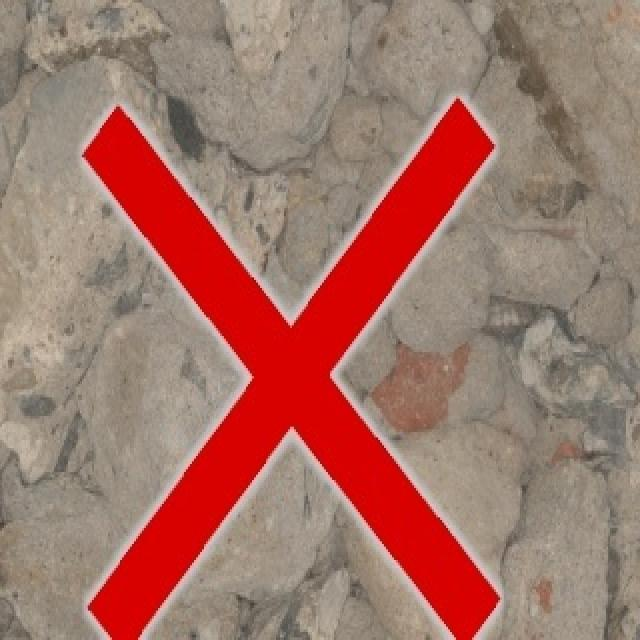x_marker: (83, 97, 499, 639)
